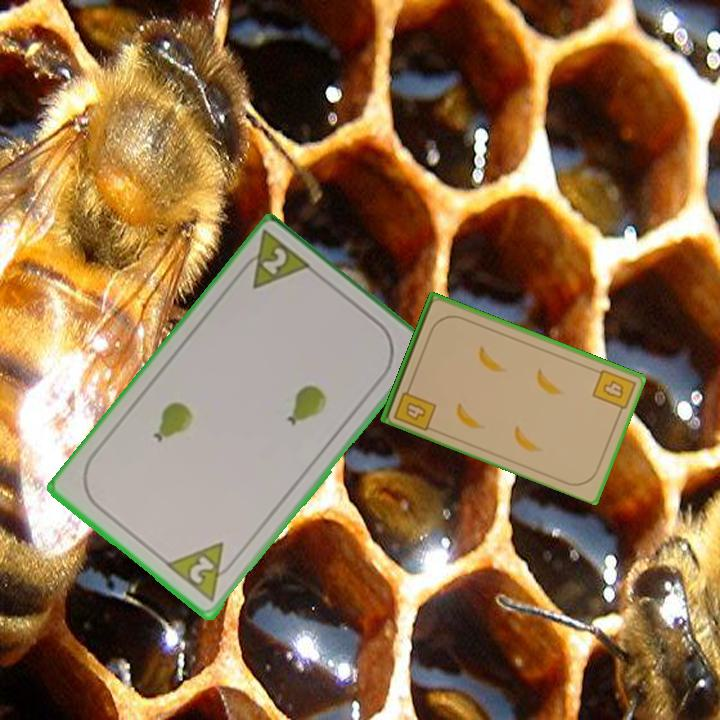2p: (235, 228, 316, 293), (163, 539, 242, 605)
4b: (589, 365, 638, 418), (390, 380, 439, 433)
